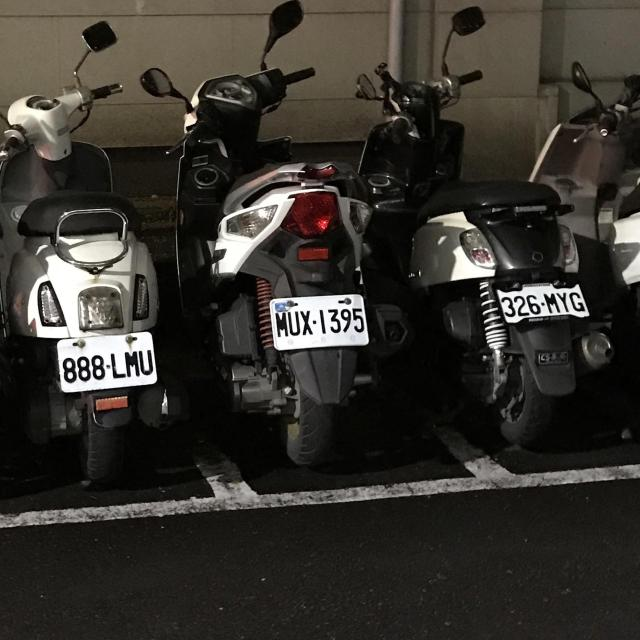W: (52, 326, 163, 395), (264, 290, 373, 352), (489, 275, 593, 328)
